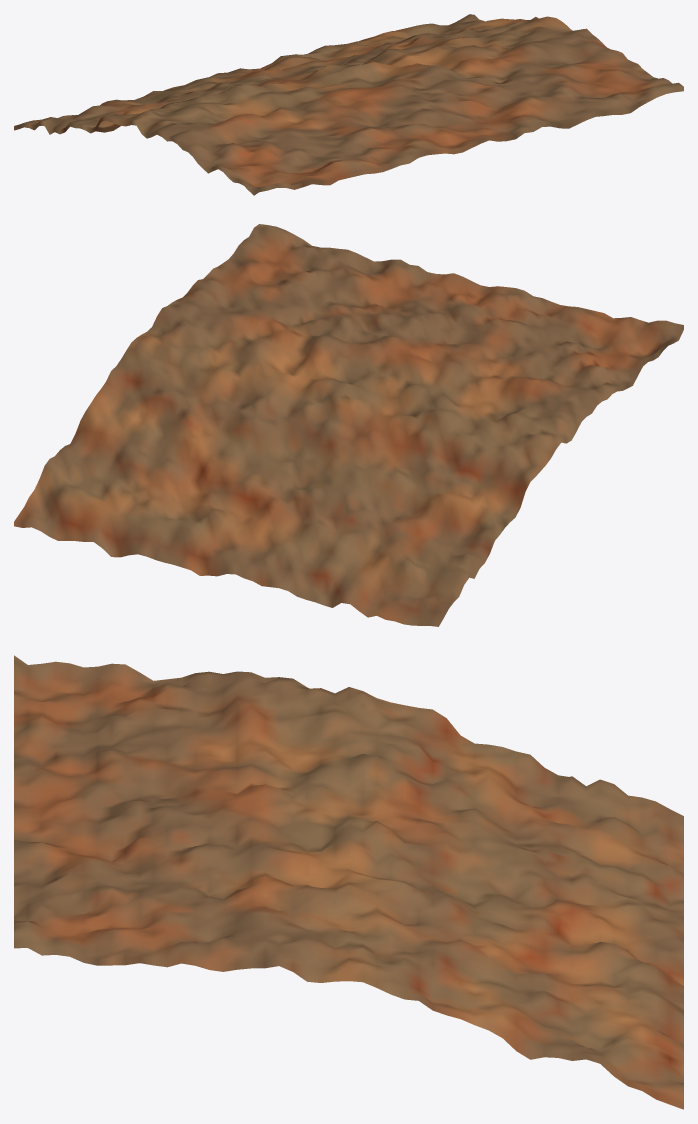
File: terrain-151.glb
3 views of the same model, one above another, from view 1: azimuth 30°, elevation 25°; view 2: azimuth 150°, elevation 25°; view 3: azimuth 270°, elevation 25° (orthographic). The views are drawn at different scales.
Parts seen in each view (by area): view 1: terrain-151; view 2: terrain-151; view 3: terrain-151.
Part boxes in pixels (x1,y1,x2,y2): terrain-151: (14, 14, 683, 195); terrain-151: (14, 224, 683, 626); terrain-151: (14, 655, 683, 1109).
Size of the model in its own units: 384 by 114 by 384.
